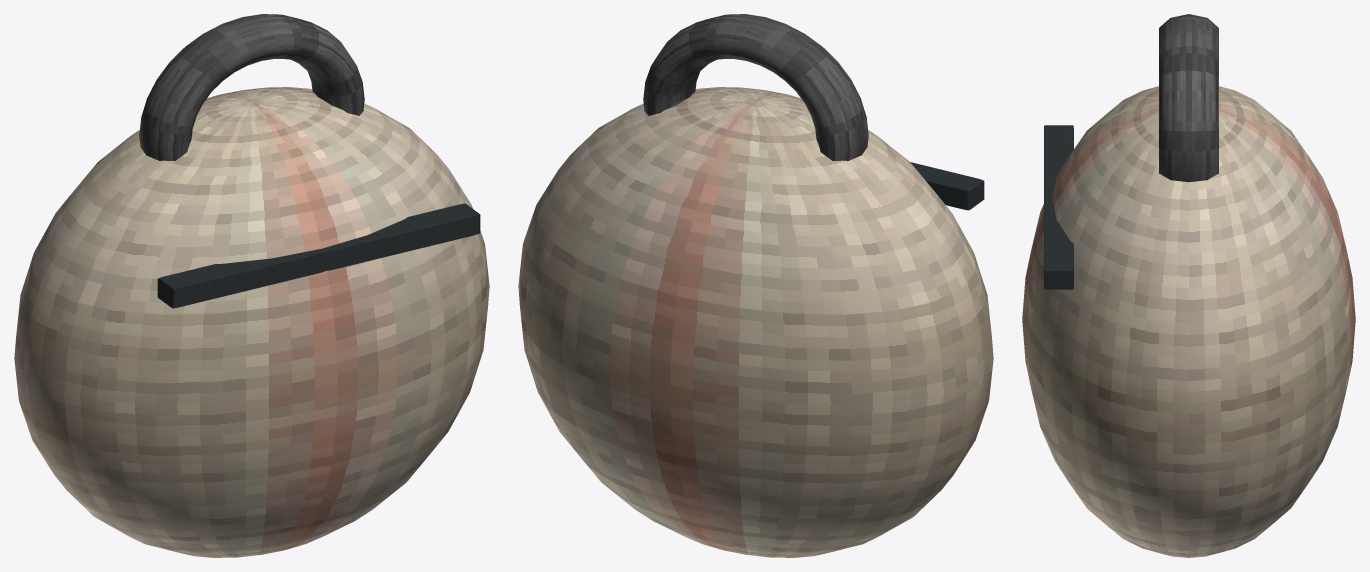
The model's file is hood.glb.
3 views of the same model, side by side, from view 1: azimuth 30°, elevation 25°; view 2: azimuth 150°, elevation 25°; view 3: azimuth 270°, elevation 25° (orthographic). The views are drawn at different scales.
Visible parts, largest first — view 1: soft-body, strap, zip; view 2: soft-body, strap, zip; view 3: soft-body, strap, zip.
Boxes of the visible parts, box(x1,y1,x2,y2) form: soft-body: box(14, 87, 489, 557); strap: box(139, 14, 364, 160); zip: box(157, 203, 480, 308); soft-body: box(518, 87, 993, 557); strap: box(643, 14, 868, 160); zip: box(910, 162, 984, 210); soft-body: box(1022, 86, 1355, 557); strap: box(1159, 14, 1218, 182); zip: box(1044, 125, 1073, 289).
Bounding box in the file's own units: 0.24 × 0.2686 × 0.16.
Materials: 3 (3 with a texture image).
